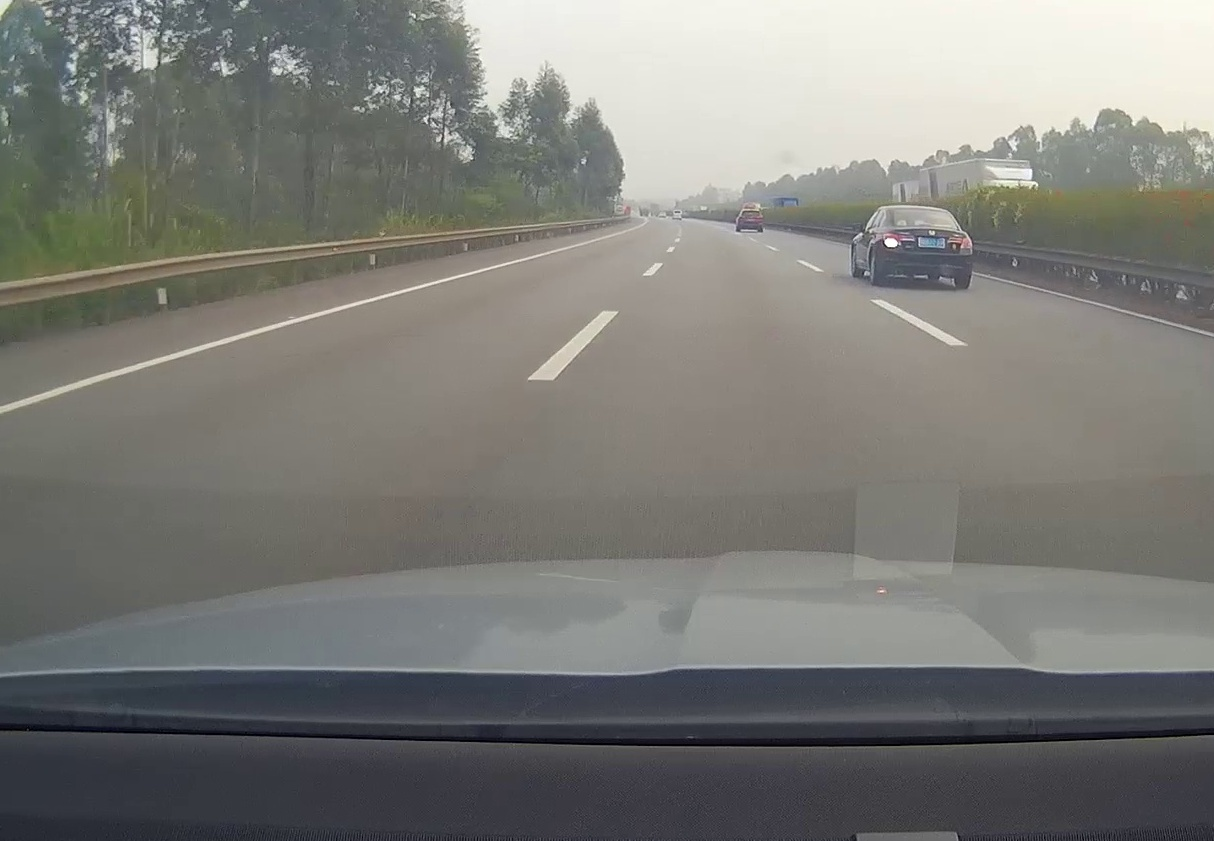L_light: (883, 233, 916, 247)
R_light: (947, 235, 973, 249)
T_light: (916, 209, 928, 212)
day-left: (878, 205, 973, 289)
